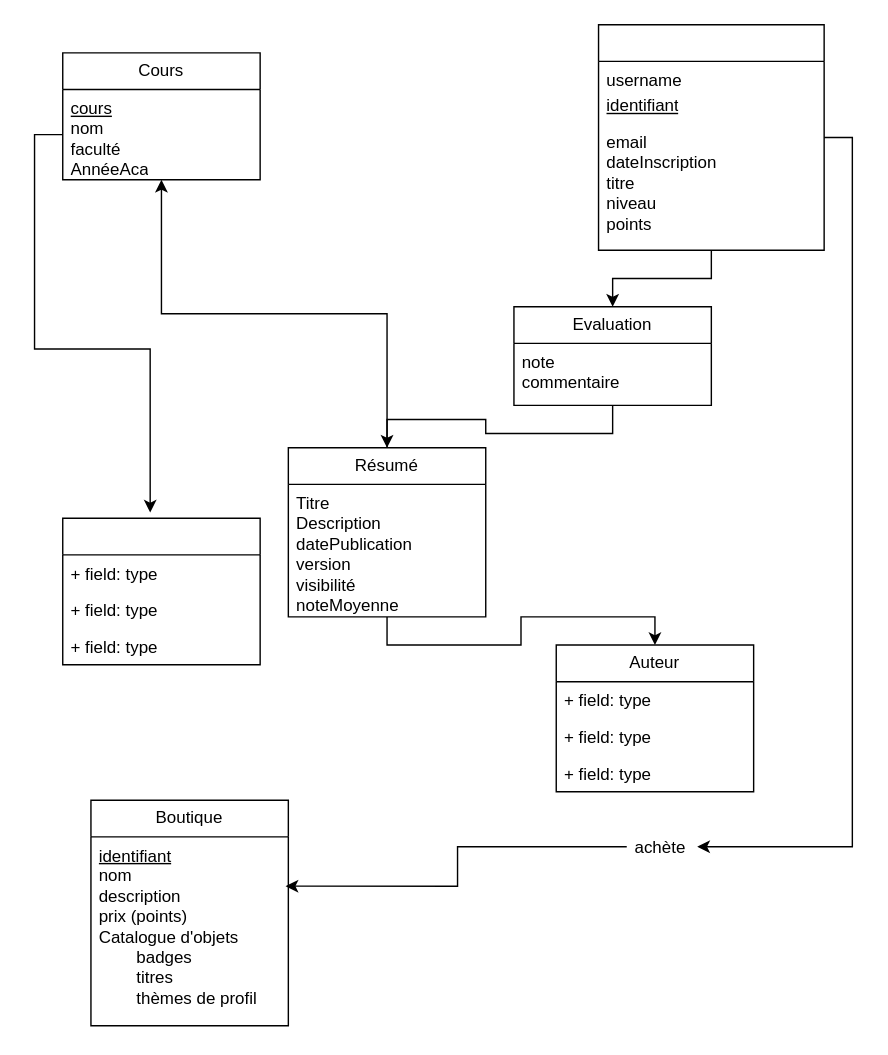
This 888x1055 diagram has some shape labels left out. Each missing label, with the box of its shape:
Année Académique: (61, 517, 260, 665)
Utilisateur: (597, 23, 824, 250)
